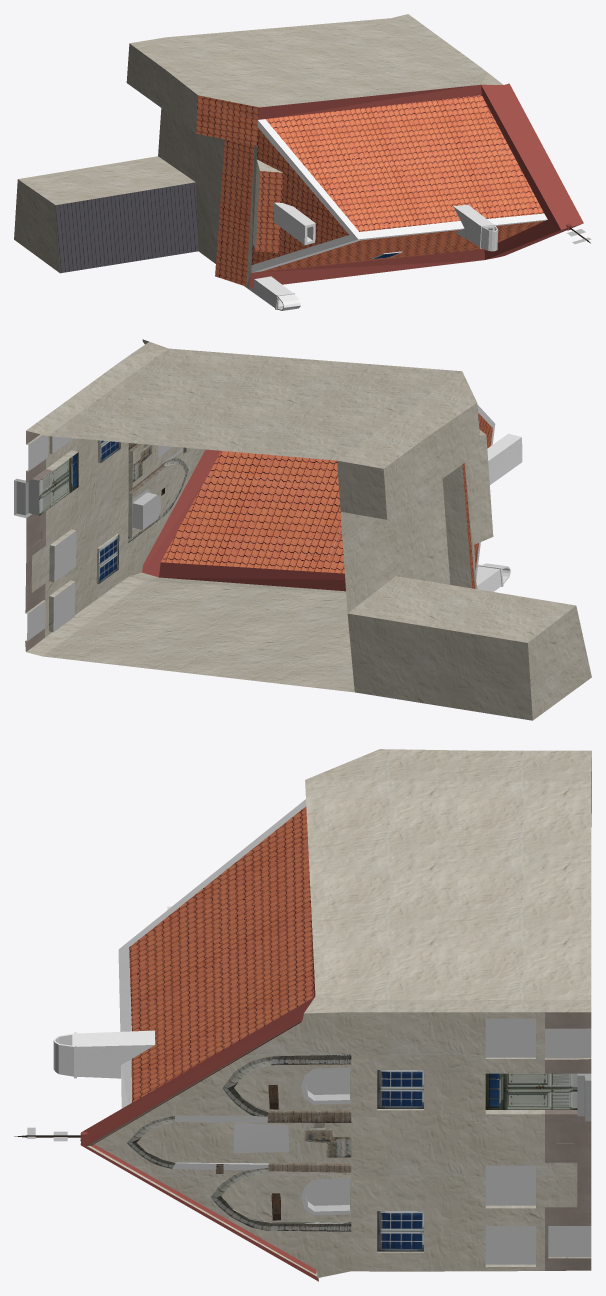
The model's file is Ryytli_10.obj.
3 views of the same model, one above another, from view 1: azimuth 30°, elevation 25°; view 2: azimuth 150°, elevation 25°; view 3: azimuth 270°, elevation 25° (orthographic). The views are drawn at different scales.
Visible parts, largest first — view 1: Ryytli_10; view 2: Ryytli_10; view 3: Ryytli_10.
Part boxes in pixels (x1,y1,x2,y2): Ryytli_10: [14, 14, 591, 310]; Ryytli_10: [14, 339, 591, 720]; Ryytli_10: [14, 749, 591, 1281].
Bounding box in the file's own units: 21.6 × 10.67 × 17.3.
